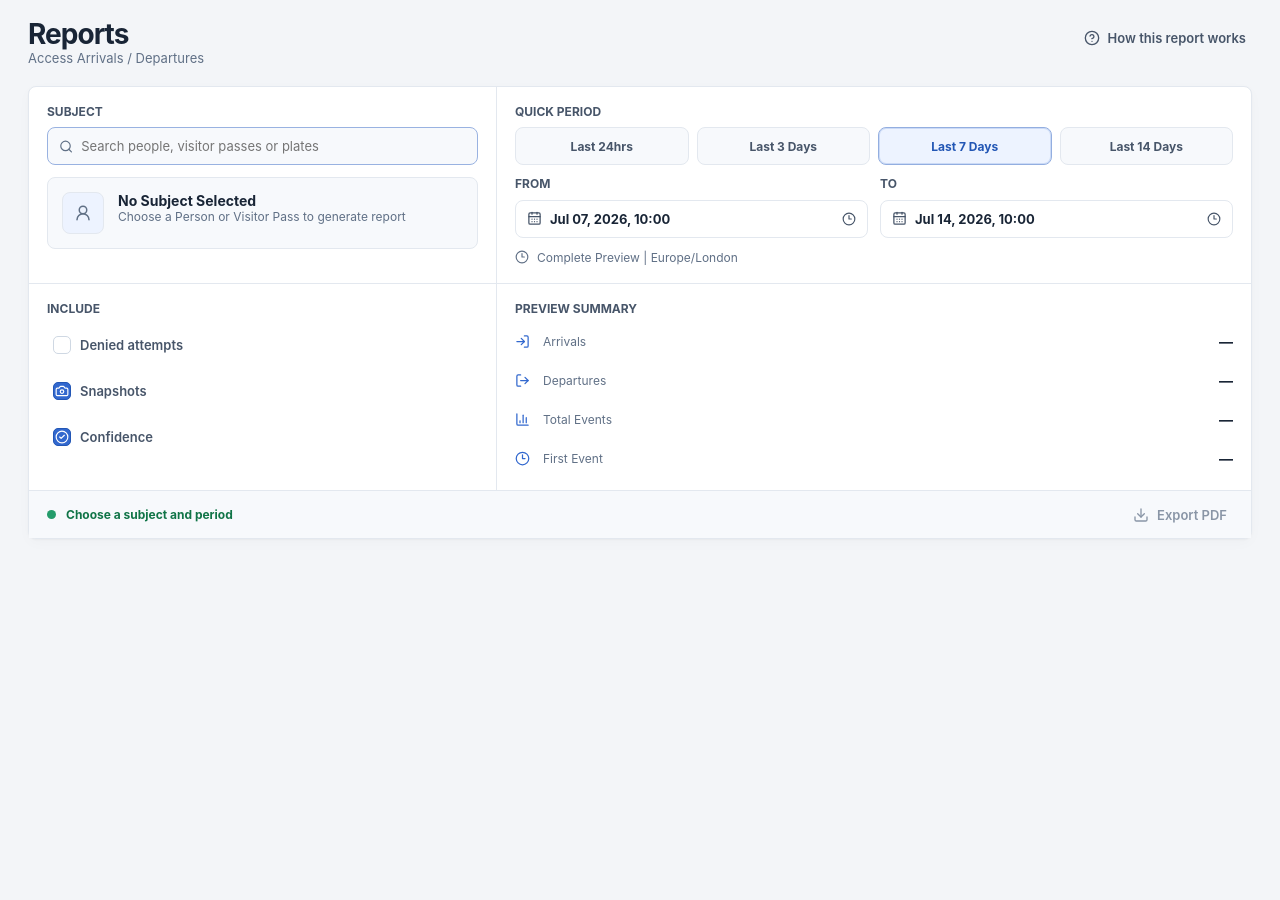
refreshes an unchanged preview through its explicit revision and discards canceled manual data
Focus the dropdown labelled "Subject": (274, 146) [81, 129, 466, 163]
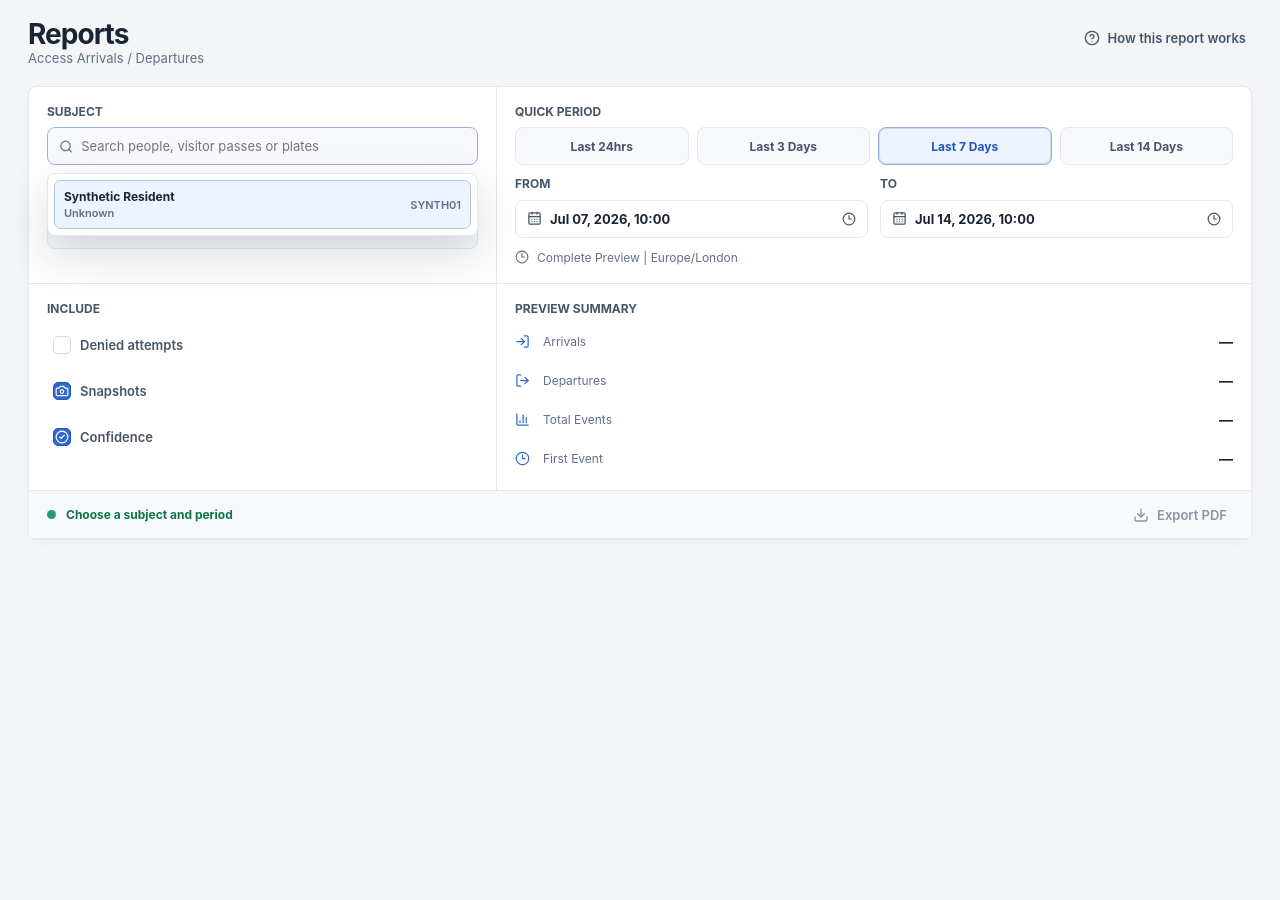
Click the option "Synthetic Resident Unknown SYNTH01": click(119, 197) [54, 180, 471, 229]
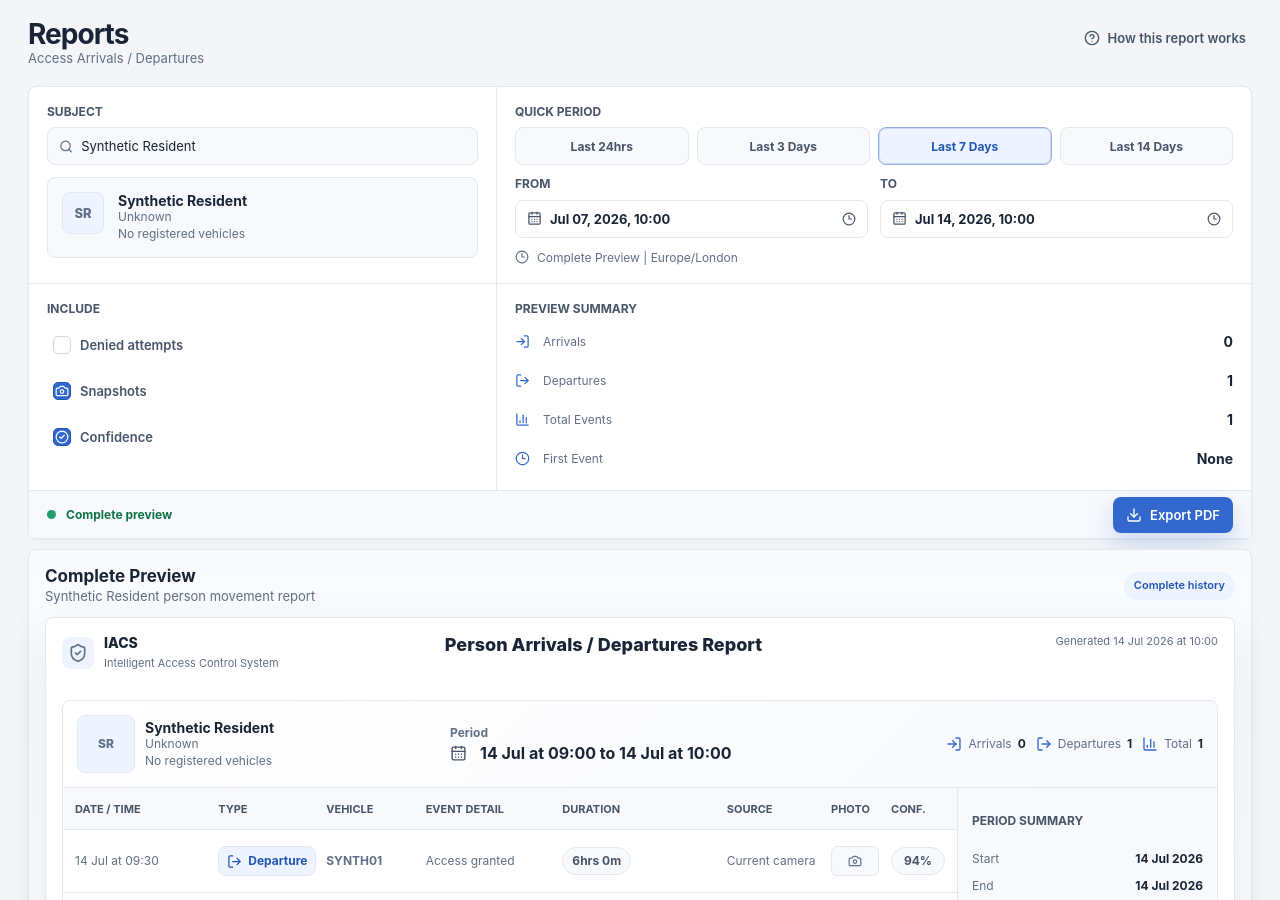
Now the text "Current camera" is shown, box [727, 853, 821, 870]
